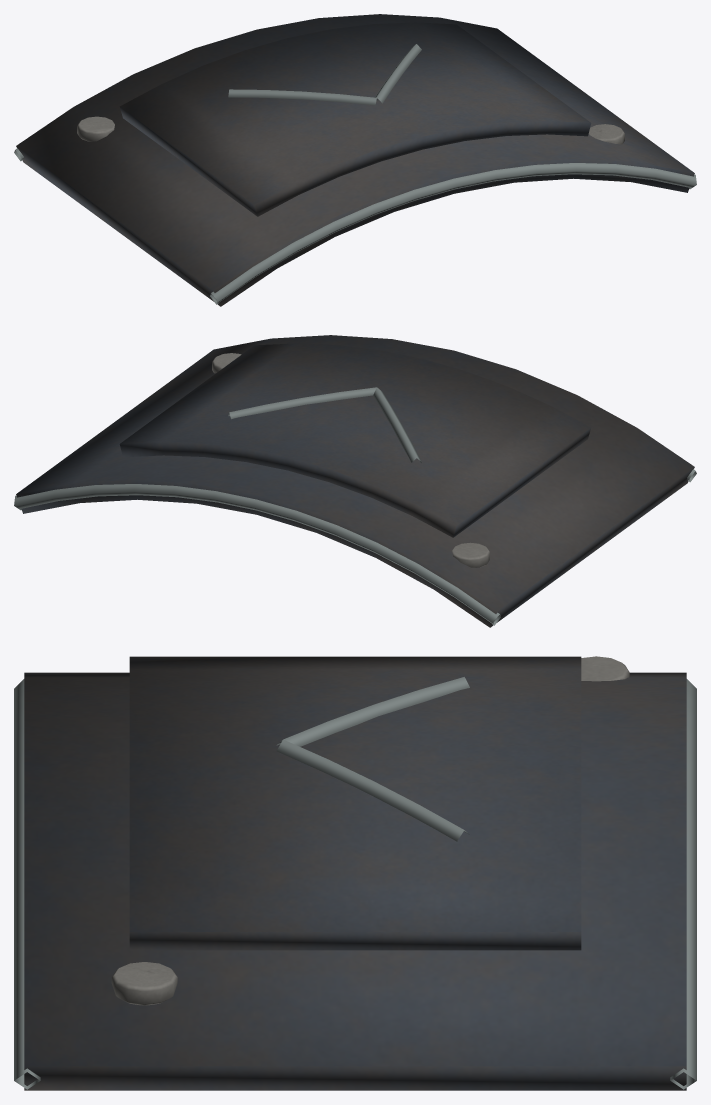
The model's file is prop_husk_plating_01.gltf.
3 renders of one model, top to bottom at view 1: azimuth 30°, elevation 25°; view 2: azimuth 150°, elevation 25°; view 3: azimuth 270°, elevation 25°, orthographic. The views are drawn at different scales.
Parts seen in each view (by area): view 1: prop_husk_plating_01_item_atlas_01; view 2: prop_husk_plating_01_item_atlas_01; view 3: prop_husk_plating_01_item_atlas_01.
Part boxes in pixels (bbox=[...]): prop_husk_plating_01_item_atlas_01: bbox=[14, 14, 696, 306]; prop_husk_plating_01_item_atlas_01: bbox=[14, 335, 696, 627]; prop_husk_plating_01_item_atlas_01: bbox=[14, 656, 696, 1090].
Size of the model in its own units: 0.1557 by 0.0293 by 0.1134.
1 material, 1 textured.
